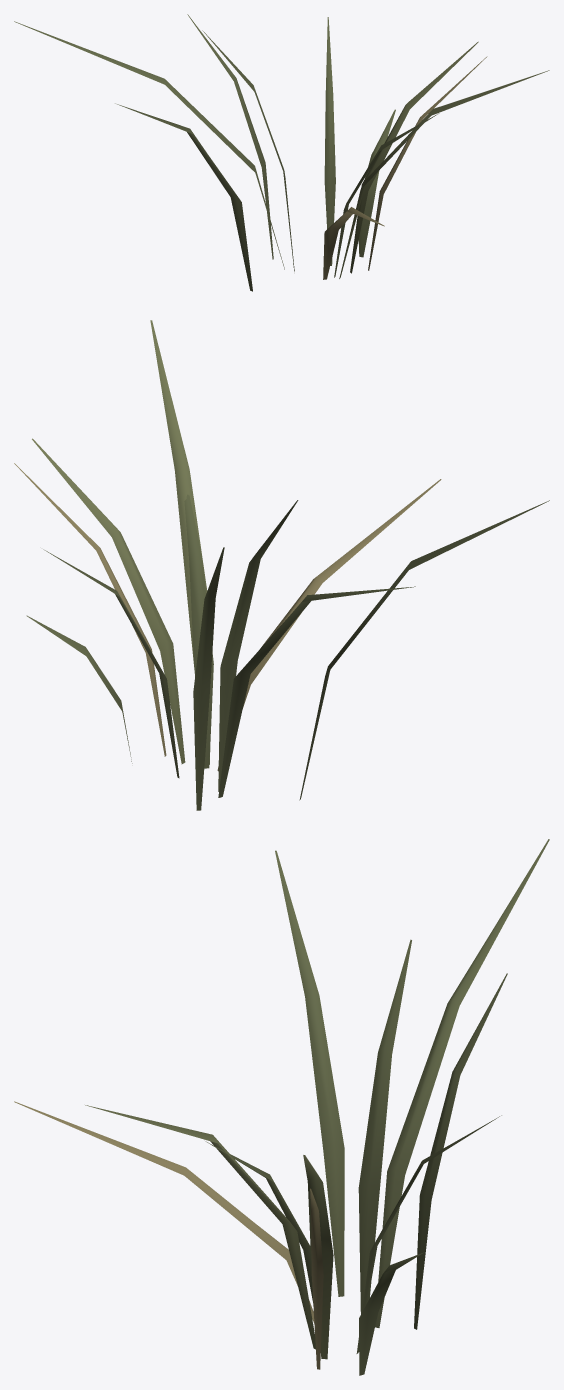
3 renders of one model, top to bottom at view 1: azimuth 30°, elevation 25°; view 2: azimuth 150°, elevation 25°; view 3: azimuth 270°, elevation 25°, orthographic. The views are drawn at different scales.
Visible parts, largest first — view 1: ground_meadow_far; view 2: ground_meadow_far; view 3: ground_meadow_far.
Part boxes in pixels (box(x1,y1,x2,y2)): ground_meadow_far: box(14, 14, 549, 291); ground_meadow_far: box(14, 320, 549, 810); ground_meadow_far: box(14, 839, 549, 1375).
Size of the model in its own units: 0.8353 by 0.5239 by 0.7295.
